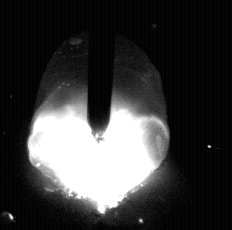arame: (88, 0, 112, 143)
poca: (27, 0, 169, 230)
